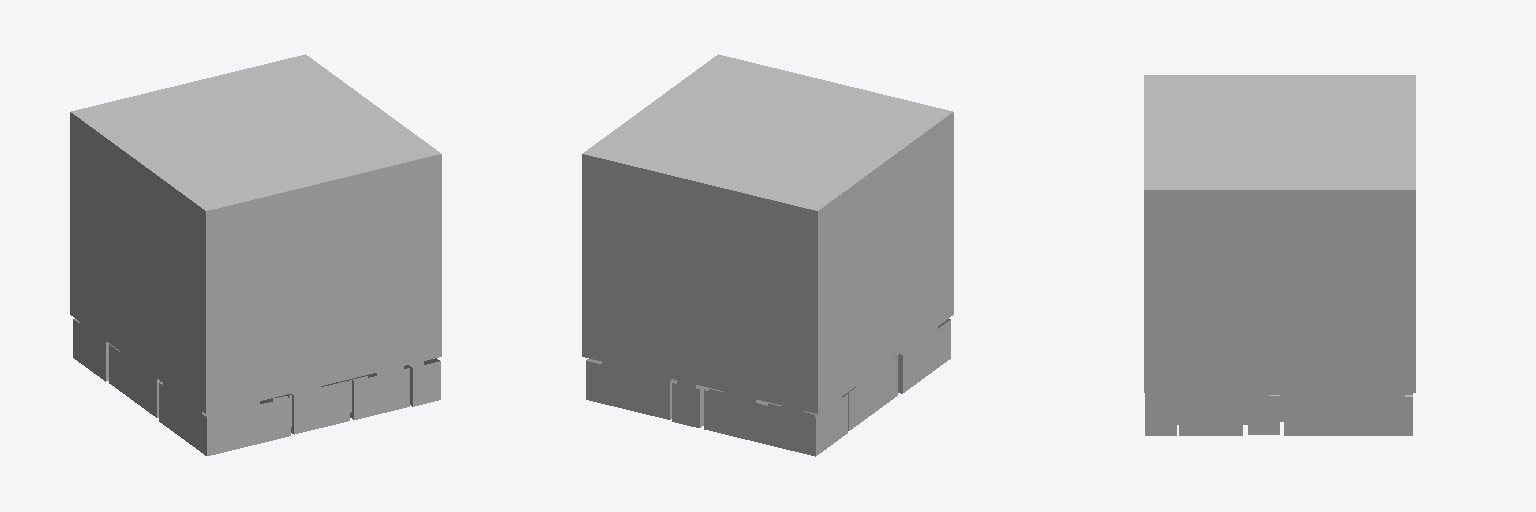
The model's file is core_bottom.obj.
The picture shows the model from 3 angles: view 1: azimuth 30°, elevation 25°; view 2: azimuth 150°, elevation 25°; view 3: azimuth 270°, elevation 25°; orthographic projection.
Parts seen in each view (by area): view 1: core_top.001; view 2: core_top.001; view 3: core_top.001.
Boxes of the visible parts, x1=… form: core_top.001: x1=70, y1=54, x2=441, y2=455; core_top.001: x1=582, y1=54, x2=953, y2=456; core_top.001: x1=1144, y1=75, x2=1415, y2=435.
Bounding box in the file's own units: 1 × 1 × 1.